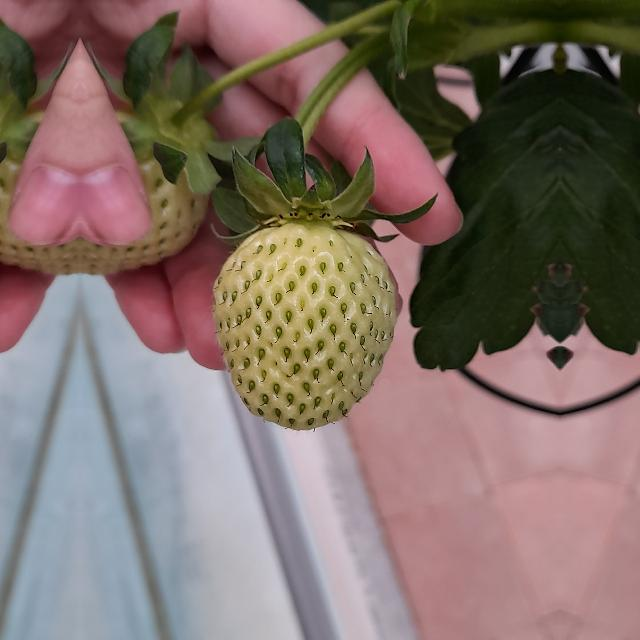Health_25: (212, 224, 396, 430)
